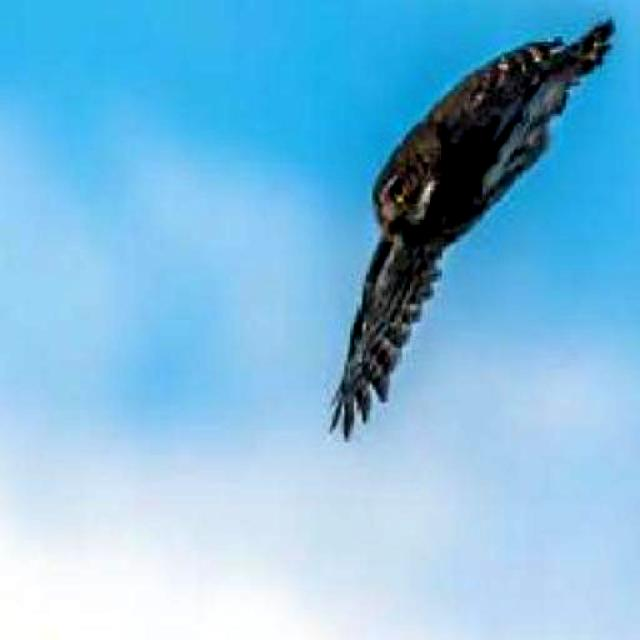airplane: (335, 26, 619, 448)
